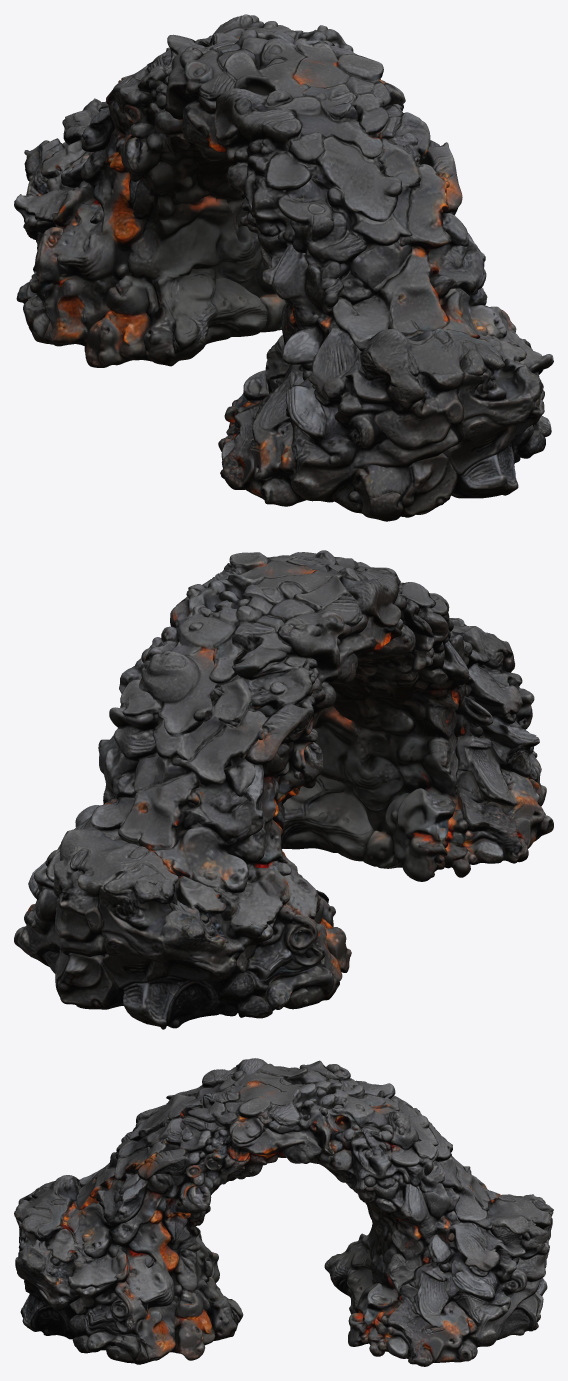
File: venus_arch.glb
3 renders of one model, top to bottom at view 1: azimuth 30°, elevation 25°; view 2: azimuth 150°, elevation 25°; view 3: azimuth 270°, elevation 25°, orthographic. The views are drawn at different scales.
Parts seen in each view (by area): view 1: tripo_node_31ffdd03-28e1-46e0-9473-fc618054aceb; view 2: tripo_node_31ffdd03-28e1-46e0-9473-fc618054aceb; view 3: tripo_node_31ffdd03-28e1-46e0-9473-fc618054aceb.
Part boxes in pixels (x1,y1,x2,y2): tripo_node_31ffdd03-28e1-46e0-9473-fc618054aceb: (14, 14, 553, 521); tripo_node_31ffdd03-28e1-46e0-9473-fc618054aceb: (14, 550, 553, 1029); tripo_node_31ffdd03-28e1-46e0-9473-fc618054aceb: (14, 1058, 553, 1366).
Bounding box in the file's own units: 0.4669 × 0.4758 × 0.9831.
Materials: 1 (1 with a texture image).
